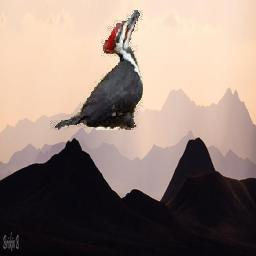Woodpecker: (51, 10, 144, 130)
